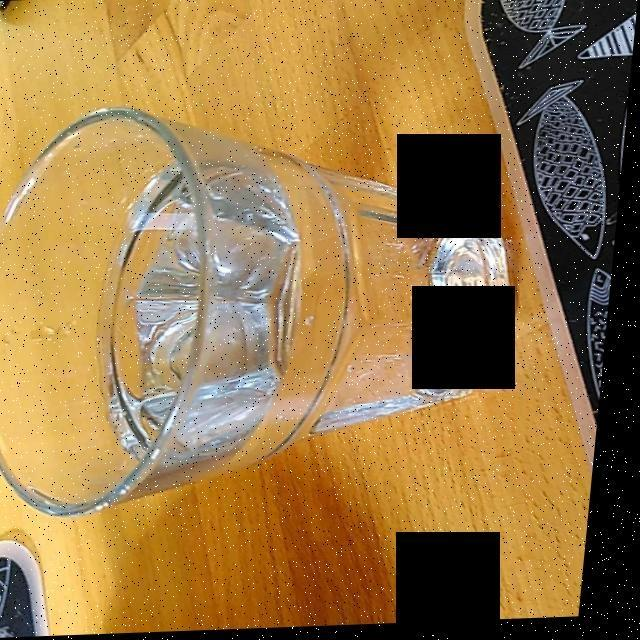water: (115, 158, 497, 467)
